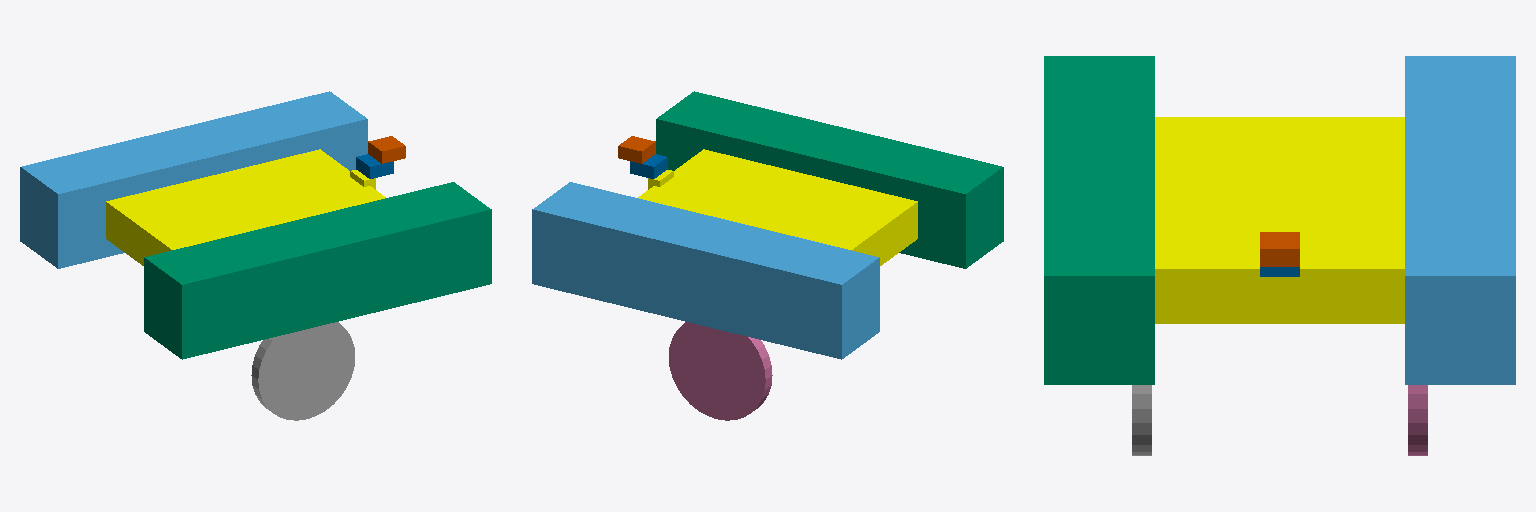
URDF robot description (myfirst):
<?xml version="1.0"?>
<robot name="myfirst">
    <link name="base_link">
        <visual>
            <geometry>
                <box size = "0.18 0.13 0.03" />
            </geometry>
            <material name="yellow">
                <color rgba="1 1 0 0.5"/>
            </material>
        </visual>
    </link>

  <link name="Left_track_link">
    <visual>
      <geometry>
         <box size = "0.26 0.055 0.06" />
      </geometry>
      <material name="blue"/>
    </visual>
  </link>

  <joint name="Left_track" type="revolute">
    <limit effort = "10" lower = "-0.22" upper = "1.15" velocity = "10" />
    <axis xyz="-1 0 0"/>
    <parent link="base_link"/>
    <child link="Left_track_link"/>
    <origin rpy="0 0 0" xyz="0 0.09 0"/>
  </joint>

  <link name="Right_track_link">
    <visual>
      <geometry>
         <box size = "0.26 0.055 0.06" />
      </geometry>
      <material name="blue"/>
    </visual>
  </link>


  <joint name="Right_track" type="revolute">
    <limit effort = "10" lower = "-0.22" upper = "1.15" velocity = "10" />
    <axis xyz="1 0 0"/>
    <parent link="base_link"/>
    <child link="Right_track_link"/>
    <origin rpy="0 0 0" xyz="0 -0.09 0"/>
  </joint>

  <link name="base_video_link">
    <visual>
      <geometry>
         <box size = "0.01 0.02 0.01" />
      </geometry>
            <material name="yellow">
                <color rgba="1 1 0 0"/>
            </material>
    </visual>
  </link>

  <joint name="base_pan_tilt" type="fixed">
    <axis xyz="1 0 0"/>
    <parent link="base_link"/>
    <child link="base_video_link"/>
    <origin rpy="0 0 0" xyz="0.09 0 0.015"/>
  </joint>

  <link name="Pan_link">
    <visual>
      <geometry>
         <box size = "0.02 0.02 0.01" />
      </geometry>
      <material name="blue"/>
    </visual>
  </link>

  <joint name="Pan" type="revolute">
    <limit effort = "10" lower = "-1.57" upper = "1.57" velocity = "10" />
    <axis xyz="0 0 -1"/>
    <parent link="base_video_link"/>
    <child link="Pan_link"/>
    <origin rpy="0 0 0" xyz="0.01 0 0.01"/>
  </joint>

  <link name="Tilt_link">
    <visual>
      <geometry>
         <box size = "0.02 0.02 0.01" />
      </geometry>
      <material name="blue"/>
    </visual>
  </link>

  <joint name="Tilt" type="revolute">
    <limit effort = "10" lower = "-1.57" upper = "1.57" velocity = "10" />
    <axis xyz="0 -1 0"/>
    <parent link="Pan_link"/>
    <child link="Tilt_link"/>
    <origin rpy="0 0 0" xyz="0.01 0 0.01"/>
  </joint>


  <link name="Left_wheel">
    <visual>
      <geometry>
        <cylinder length=".01" radius="0.0408"/>
      </geometry>
      <material name="blue"/>
    </visual>
  </link>

  <joint name="Left" type="continuous">
    <axis xyz="0 0 1"/>
    <parent link="base_link"/>
    <child link="Left_wheel"/>
    <origin rpy="1.57075 0 0" xyz="0 0.069 -0.085"/>
    <limit effort="100" velocity="100"/>
    <joint_properties damping="0.0" friction="0.0"/>
  </joint>
  
  <link name="Right_wheel">
    <visual>
      <geometry>
        <cylinder length=".01" radius="0.0408"/>
      </geometry>
      <material name="blue"/>
    </visual>
  </link>

  <joint name="Right" type="continuous">
    <axis xyz="0 0 1"/>
    <parent link="base_link"/>
    <child link="Right_wheel"/>
    <origin rpy="1.57075 0 0" xyz="0 -0.069 -0.085"/>
    <limit effort="100" velocity="100"/>
    <joint_properties damping="0.0" friction="0.0"/>
  </joint>


</robot>

--- What the picture shows (computed from the rendered views, not written in the file) ---
3 views of the same robot in one strip: view 1: azimuth 30°, elevation 25°; view 2: azimuth 150°, elevation 25°; view 3: azimuth 270°, elevation 25° (orthographic).
Model myfirst with 8 links and 7 joints (4 revolute, 2 continuous, 1 fixed), rooted at base_link, posed every joint at zero.
Links seen in each view (by area): view 1: Right_track_link, Left_track_link, base_link, Right_wheel, Tilt_link, Pan_link; view 2: Left_track_link, Right_track_link, base_link, Left_wheel, Tilt_link, Pan_link; view 3: base_link, Left_track_link, Right_track_link, Left_wheel, Right_wheel, Tilt_link.
Boxes of the visible links, x1,y1,x2,y2 form: Right_track_link: (144,182,491,359); Left_track_link: (20,91,367,268); base_link: (106,149,385,265); Right_wheel: (251,322,354,420); Tilt_link: (368,136,405,163); Pan_link: (356,154,393,178); Left_track_link: (532,182,879,359); Right_track_link: (656,91,1003,268); base_link: (638,149,917,265); Left_wheel: (669,322,772,420); Tilt_link: (618,136,655,163); Pan_link: (630,154,667,178); base_link: (1155,117,1404,323); Left_track_link: (1405,56,1515,384); Right_track_link: (1044,56,1154,384); Left_wheel: (1408,385,1427,455); Right_wheel: (1132,385,1151,455); Tilt_link: (1260,232,1299,266).
Size in the robot's own frame: 0.26 by 0.235 by 0.1658 metres.
Geometry: primitives only (box / cylinder / sphere), no mesh files.
